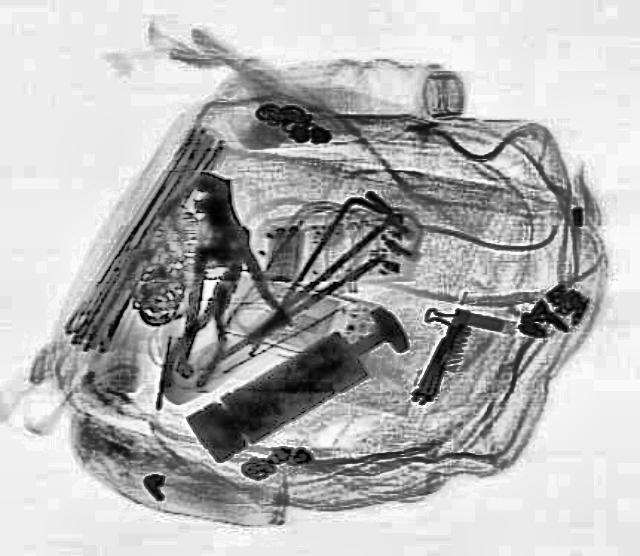Pliers: (141, 164, 295, 378), (160, 256, 260, 388)
